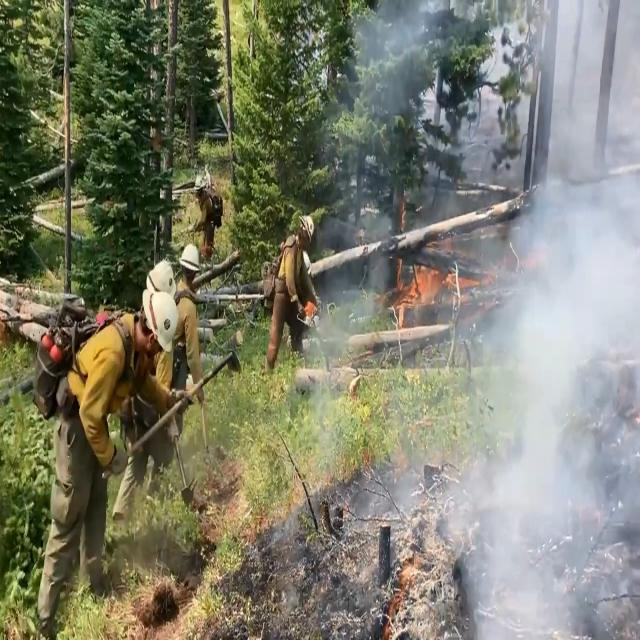Fire: (291, 216, 481, 362)
